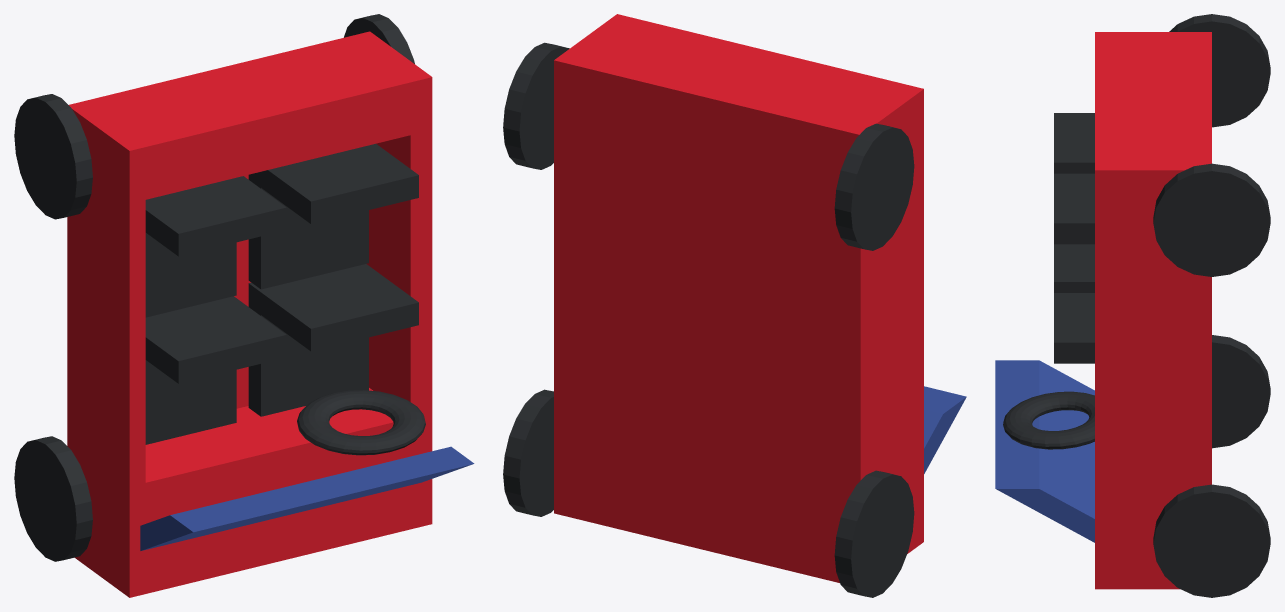
The model's file is tinker.obj.
The picture shows the model from 3 angles, left to right: view 1: azimuth 30°, elevation 25°; view 2: azimuth 150°, elevation 25°; view 3: azimuth 270°, elevation 25°; orthographic projection. The views are drawn at different scales.
Visible parts, largest first — view 1: group_0_15277357, group_0_2829873, group_0_3888547; view 2: group_0_15277357, group_0_2829873, group_0_3888547; view 3: group_0_15277357, group_0_2829873, group_0_3888547.
Boxes of the visible parts, box(x1,y1,x2,y2) form: group_0_15277357: box(67, 31, 432, 597); group_0_2829873: box(14, 14, 425, 561); group_0_3888547: box(140, 446, 474, 550); group_0_15277357: box(554, 14, 923, 582); group_0_2829873: box(503, 42, 914, 597); group_0_3888547: box(924, 386, 966, 473); group_0_15277357: box(1095, 32, 1211, 589); group_0_2829873: box(1003, 14, 1270, 597); group_0_3888547: box(995, 360, 1094, 542).
Size of the model in its own units: 63.5 by 80.5 by 47.
